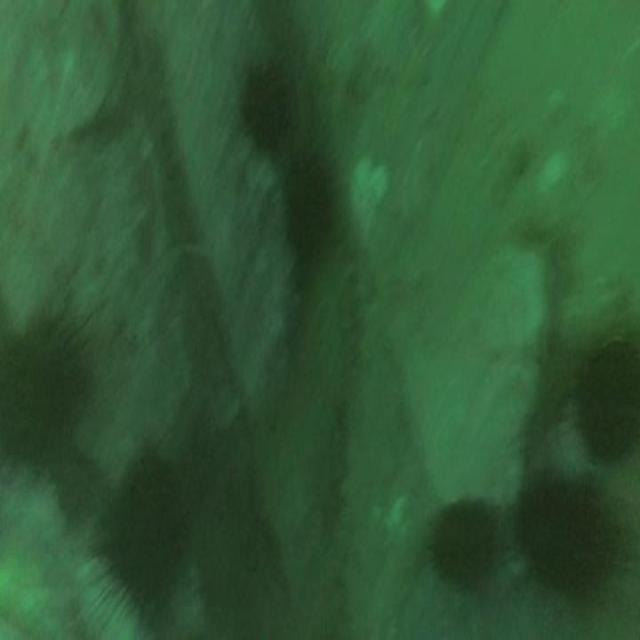echinus: (82, 430, 196, 635), (507, 442, 633, 616), (4, 300, 102, 484), (414, 477, 516, 610), (562, 316, 640, 477), (273, 140, 347, 284), (234, 52, 300, 157)
